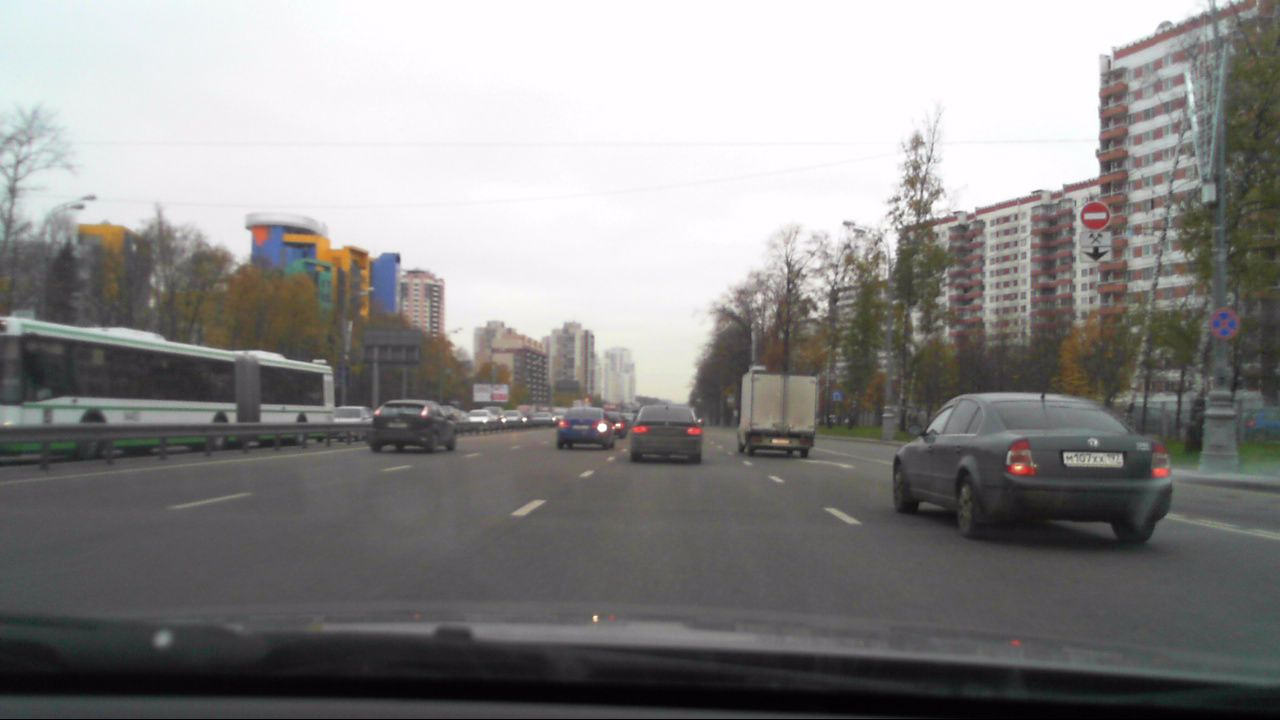No Parking: (1205, 306, 1240, 339)
